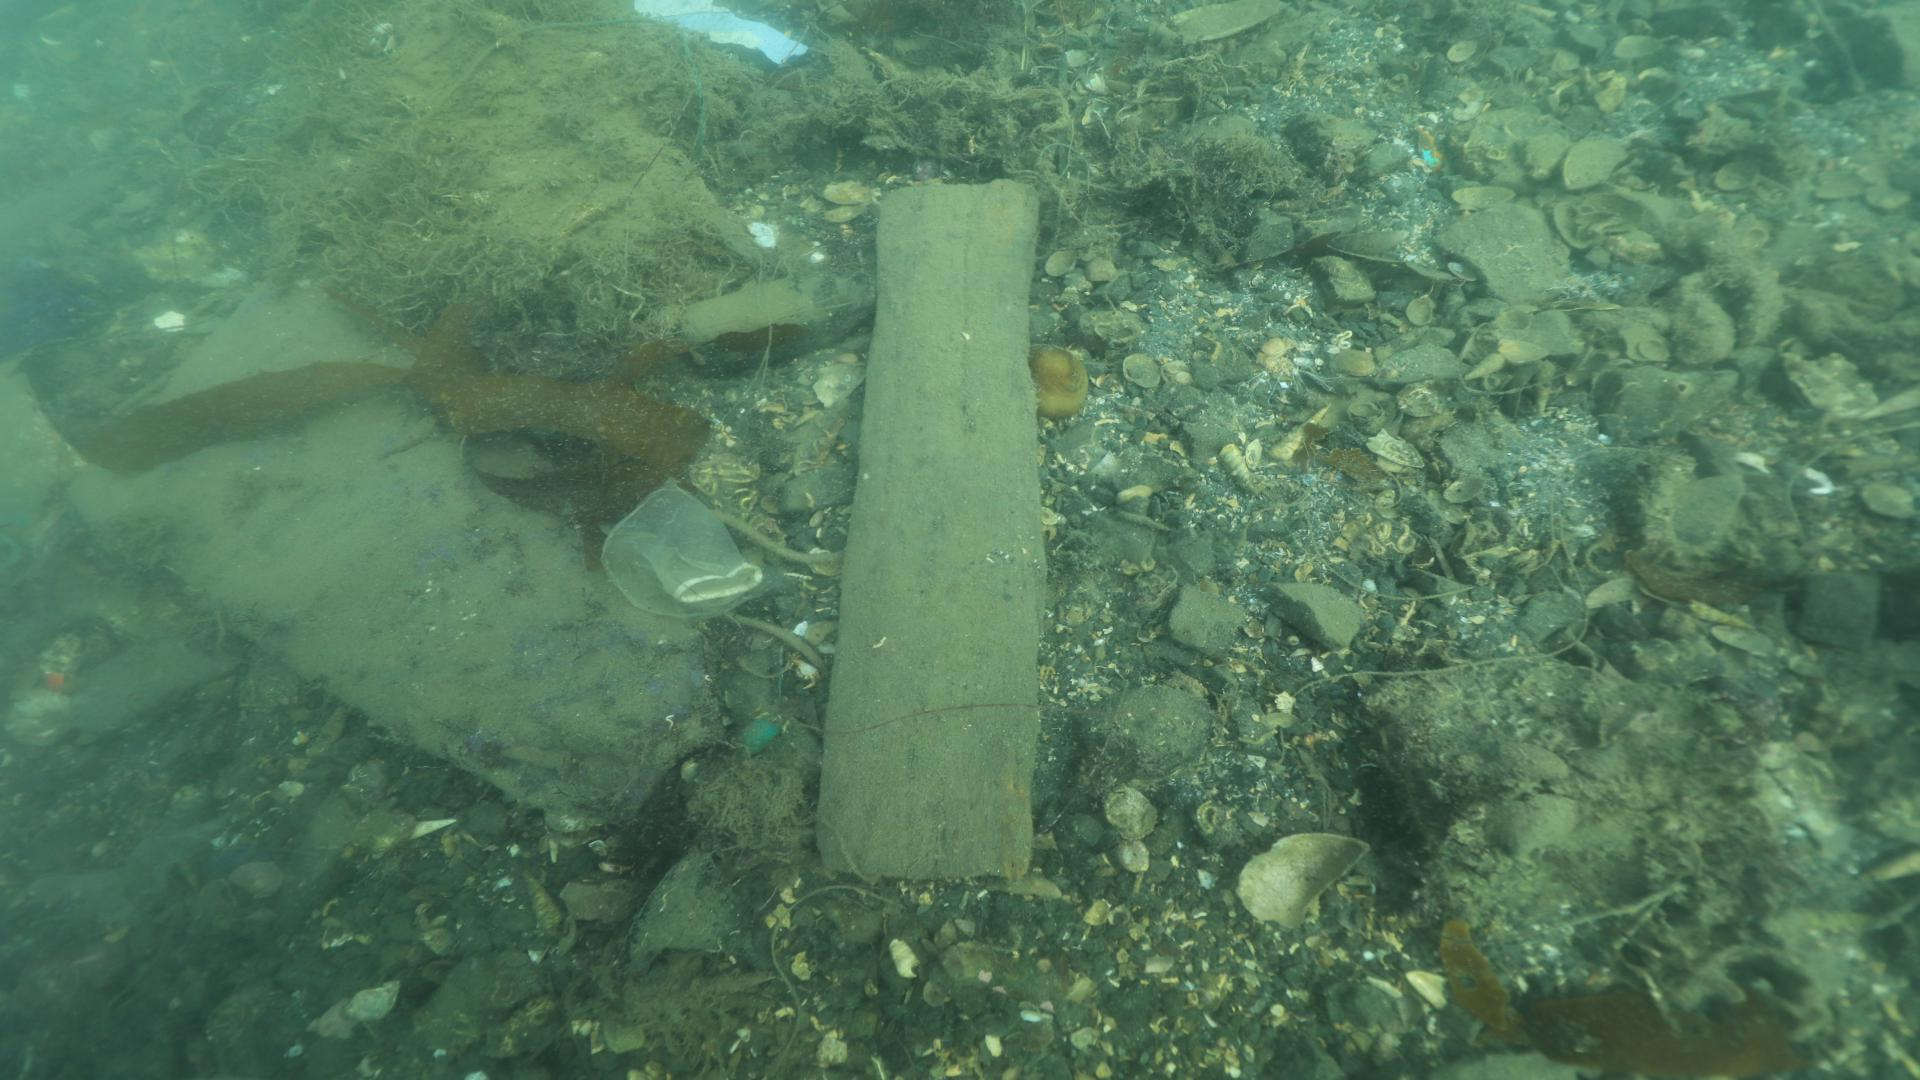wood: (808, 175, 1054, 895)
